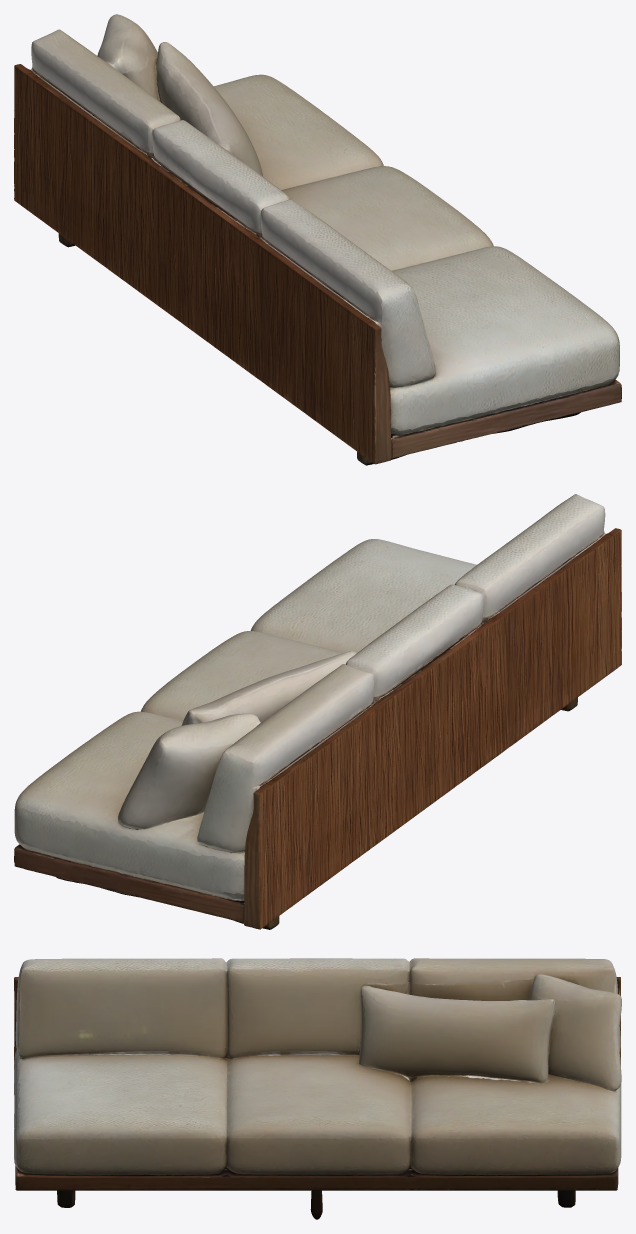
The model's file is lounge-sofa-optimized.glb.
3 renders of one model, top to bottom at view 1: azimuth 30°, elevation 25°; view 2: azimuth 150°, elevation 25°; view 3: azimuth 270°, elevation 25°, orthographic. The views are drawn at different scales.
Visible parts, largest first — view 1: input; view 2: input; view 3: input.
Boxes of the visible parts, left/top/right/bottom form: input: left=14, top=14, right=621, bottom=465; input: left=14, top=494, right=621, bottom=929; input: left=14, top=958, right=621, bottom=1219.
Size of the model in its own units: 0.4035 by 0.3132 by 0.9998.
Materials: 1 (1 with a texture image).
